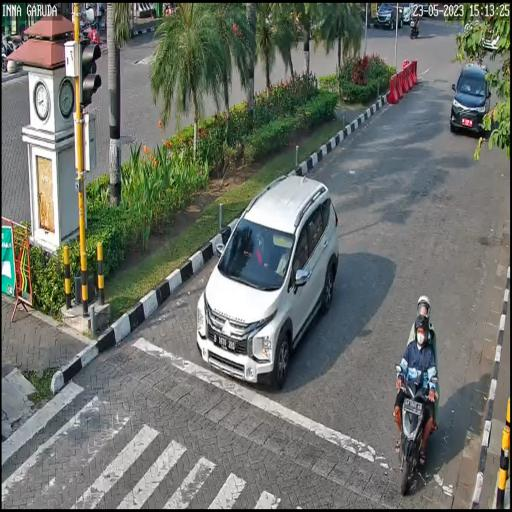mobil: (196, 174, 339, 384), (450, 61, 489, 139)
motor: (394, 359, 438, 498)
